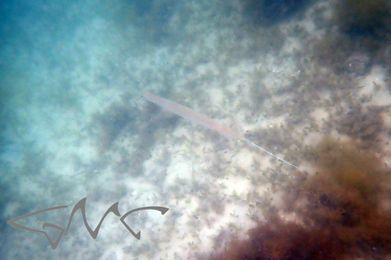Fistularia commersonii: (124, 78, 288, 173)
